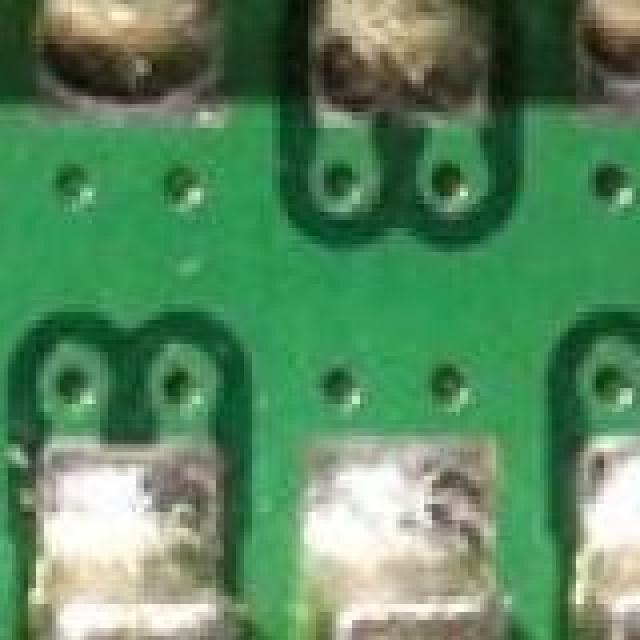capacitor: (332, 548, 508, 640), (56, 568, 244, 640), (312, 0, 496, 48), (584, 524, 640, 640), (44, 0, 228, 20)
